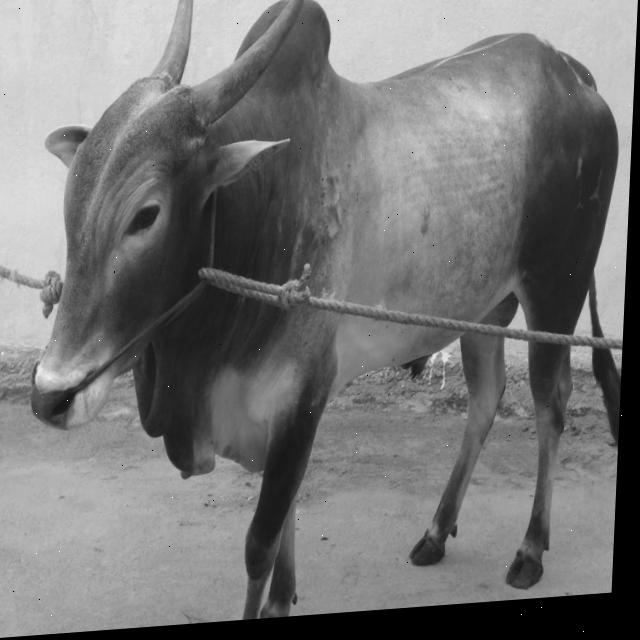Cow: (18, 0, 638, 634)
